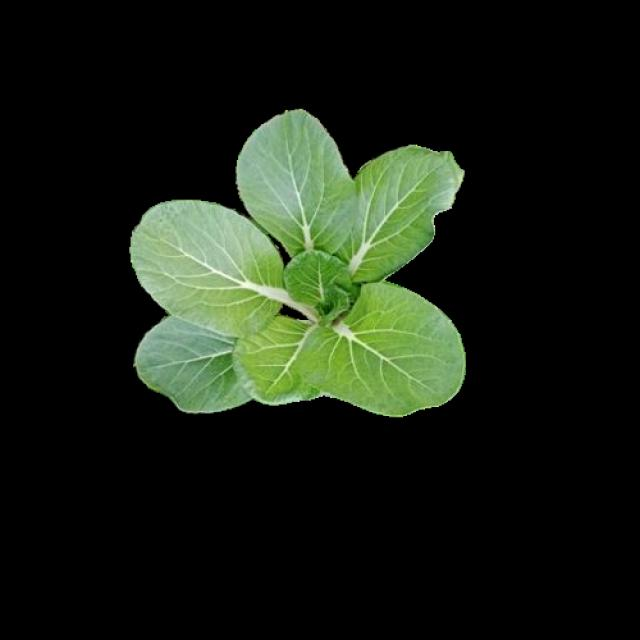healthy: (140, 128, 473, 424)
not-mature: (130, 114, 464, 410)
